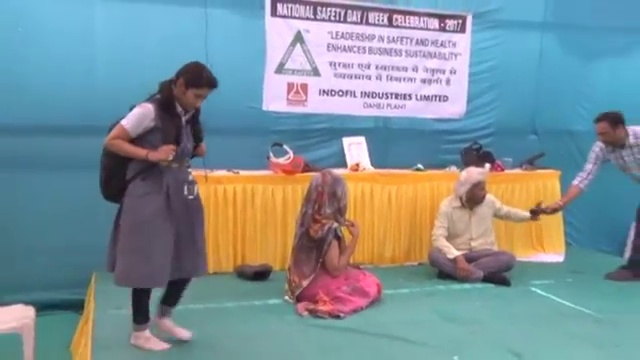helmet_off: (167, 61, 216, 114), (303, 171, 350, 222), (454, 168, 489, 209), (593, 112, 629, 151)
person: (95, 59, 218, 354), (529, 112, 640, 284), (282, 169, 382, 320), (427, 168, 546, 287)
